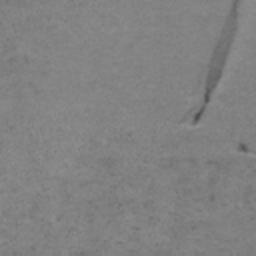Finishing roll printing: (192, 0, 239, 125)
